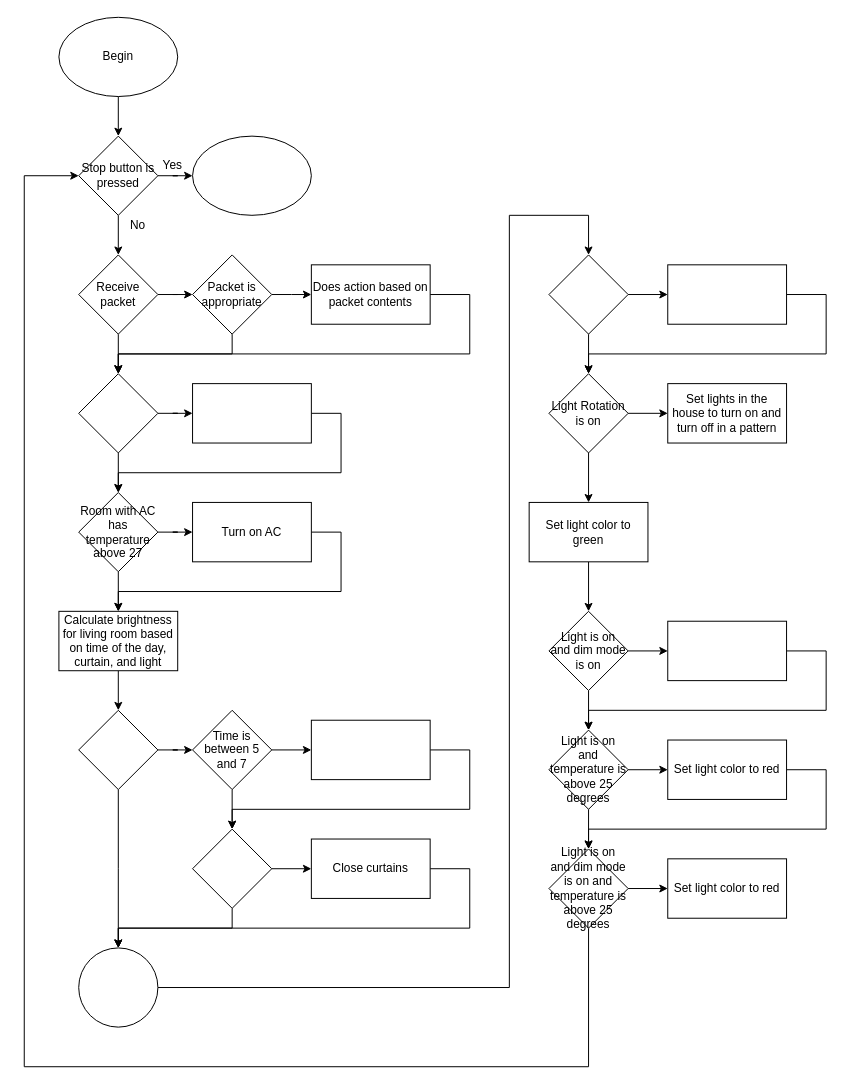
Some shapes in this 851 by 1092 pixel diagram are drawn without their labels. The shapes that lost their labels are listed below. From the top down, each one's centre as x and y in pixels, then its label:
At pixel 251 175: "End".
At pixel 588 294: "Adaptive Brightness is on".
At pixel 727 294: "Set TV brightness according to Room Brightness".
At pixel 118 413: "AC is on and temperature above 19".
At pixel 251 413: "Set temperature to 20".
At pixel 727 650: "Set light color to blue".
At pixel 118 749: "Automatic Curtains is on".
At pixel 370 749: "Open curtains".
At pixel 232 868: "Time is between 17 and 19".
